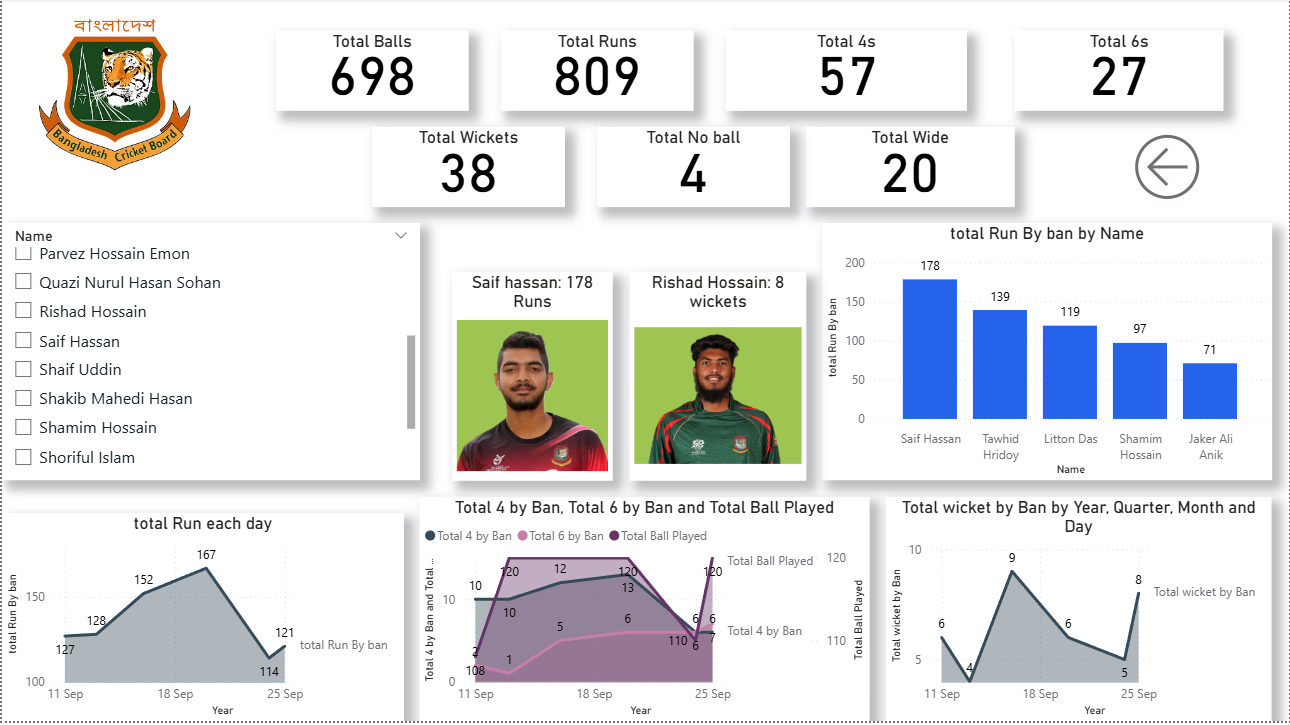

The page's visual inventory and layout, read from the dashboard file:
{"tool":"powerbi","page":{"name":"Bangladesh","canvas":[1280,720],"ordinal":5},"visuals":[{"type":"image","box":[16,16,192,160],"z":0},{"type":"card","title":"Total Runs","fields":{"Values":["New Mesures.total Run By ban"]},"box":[496,32,192,80],"z":1000},{"type":"card","title":"Total Balls ","fields":{"Values":["New Mesures.total balls plyed Ban"]},"box":[272,32,192,80],"z":2000},{"type":"card","title":"Total 4s","fields":{"Values":["New Mesures.Total 4 by Ban"]},"box":[720,32,240,80],"z":3000},{"type":"card","title":"Total 6s","fields":{"Values":["New Mesures.Total 6 by Ban"]},"box":[1008,32,208,80],"z":4000},{"type":"card","title":"Total Wickets","fields":{"Values":["New Mesures.Total wicket by Ban"]},"box":[368,128,192,80],"z":5000},{"type":"card","title":"Total Wide","fields":{"Values":["New Mesures.Total Wide by Ban"]},"box":[800,128,208,80],"z":6000},{"type":"card","title":"Total No ball","fields":{"Values":["New Mesures.Total No ball by Ban"]},"box":[592,128,192,80],"z":7000},{"type":"slicer","fields":{"Values":["Players.Name"]},"box":[0,224,416,256],"z":8000},{"type":"lineChart","title":"total Run each day","fields":{"Y":["New Mesures.total Run By ban"],"Category":["Date.Date.Variation.Date Hierarchy.Year","Date.Date.Variation.Date Hierarchy.Month","Date.Date.Variation.Date Hierarchy.Day"]},"box":[0,512,400,208],"z":9000},{"type":"lineChart","title":"Total 4 by Ban, Total 6 by Ban and Total Ball Played ","fields":{"Y":["New Mesures.Total 4 by Ban","New Mesures.Total 6 by Ban"],"Category":["Date.Date.Variation.Date Hierarchy.Year","Date.Date.Variation.Date Hierarchy.Month","Date.Date.Variation.Date Hierarchy.Day"],"Y2":["Teams data.Total Ball Played"]},"box":[416,496,448,224],"z":10000},{"type":"lineChart","fields":{"Y":["New Mesures.Total wicket by Ban"],"Category":["Date.Date.Variation.Date Hierarchy.Year","Date.Date.Variation.Date Hierarchy.Quarter","Date.Date.Variation.Date Hierarchy.Month","Date.Date.Variation.Date Hierarchy.Day"]},"box":[880,496,384,224],"z":11000},{"type":"clusteredColumnChart","fields":{"Category":["Players.Name"],"Y":["Sum(Bowling.Run)"]},"box":[816,224,448,256],"z":12000},{"type":"image","title":"Saif hassan: 178 Runs","box":[448,272,160,208],"z":13000},{"type":"image","title":"Rishad Hossain: 8 wickets","box":[624,272,176,208],"z":14000},{"type":"actionButton","box":[1120,128,96,80],"z":15000}]}

Visuals, with their boxes in screenshot pixels (x1, y1, x2, y2), scaled from the page's 1280x720 canvas onto the 1290x725 screenshot:
image: 16, 16, 210, 177
"Total Runs" card: 500, 32, 693, 113
"Total Balls " card: 274, 32, 468, 113
"Total 4s" card: 726, 32, 968, 113
"Total 6s" card: 1016, 32, 1226, 113
"Total Wickets" card: 371, 129, 564, 209
"Total Wide" card: 806, 129, 1016, 209
"Total No ball" card: 597, 129, 790, 209
slicer - Players.Name: 0, 226, 419, 483
"total Run each day" lineChart: 0, 516, 403, 724
"Total 4 by Ban, Total 6 by Ban and Total Ball Played " lineChart: 419, 499, 871, 724
lineChart - New Mesures.Total wicket by Ban x Date.Date.Variation.Date Hierarchy.Year: 887, 499, 1274, 724
clusteredColumnChart - Players.Name x Sum(Bowling.Run): 822, 226, 1274, 483
"Saif hassan: 178 Runs" image: 452, 274, 613, 483
"Rishad Hossain: 8 wickets" image: 629, 274, 806, 483
actionButton: 1129, 129, 1226, 209
